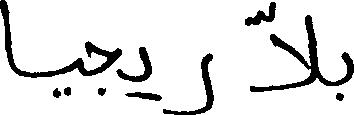X: (253, 0, 319, 96), (166, 48, 211, 114), (87, 36, 119, 100), (0, 0, 17, 78), (139, 42, 150, 104), (342, 47, 353, 104), (74, 53, 82, 79)
